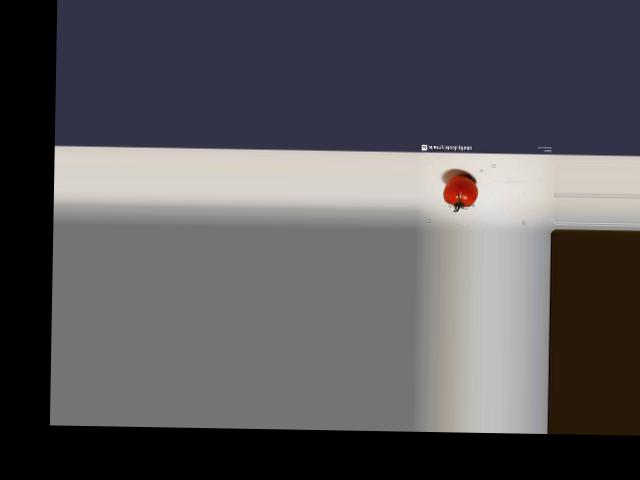tomato: (443, 175, 478, 206)
